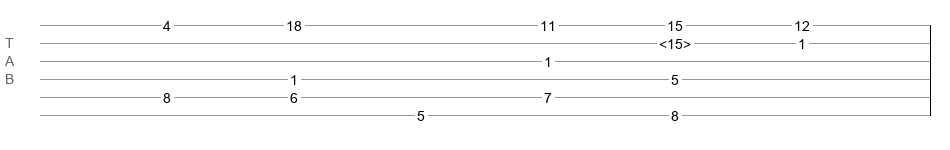1: (290, 72, 298, 82), (544, 54, 552, 64), (798, 36, 806, 46)
11: (540, 18, 556, 28)
12: (794, 18, 810, 28)
15: (667, 18, 683, 28)
18: (286, 18, 302, 28)
4: (163, 18, 171, 28)
5: (417, 108, 425, 118), (671, 72, 679, 82)
6: (290, 90, 298, 100)
7: (544, 90, 552, 100)
8: (163, 90, 171, 100), (671, 108, 679, 118)
harmonic: (659, 36, 691, 46)
